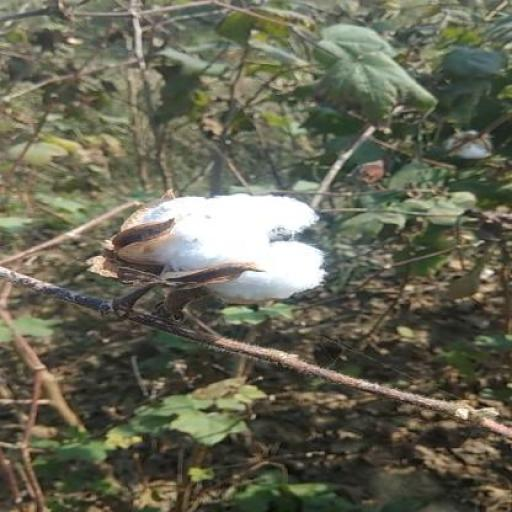cotton_ready: (60, 165, 366, 349)
